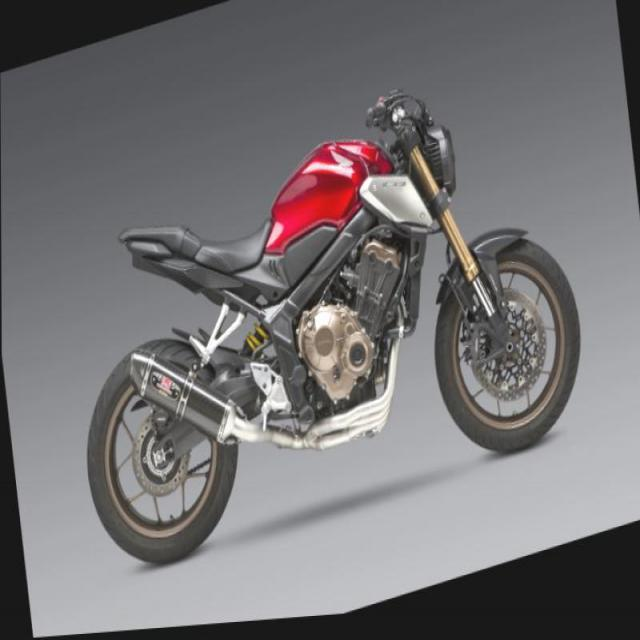CB650R: (58, 73, 590, 587)
